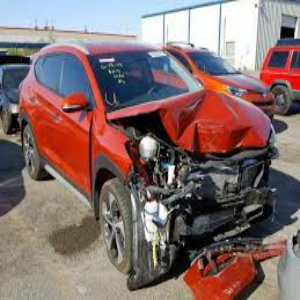bonnet: (155, 87, 273, 153)
bumper: (148, 161, 282, 248)
